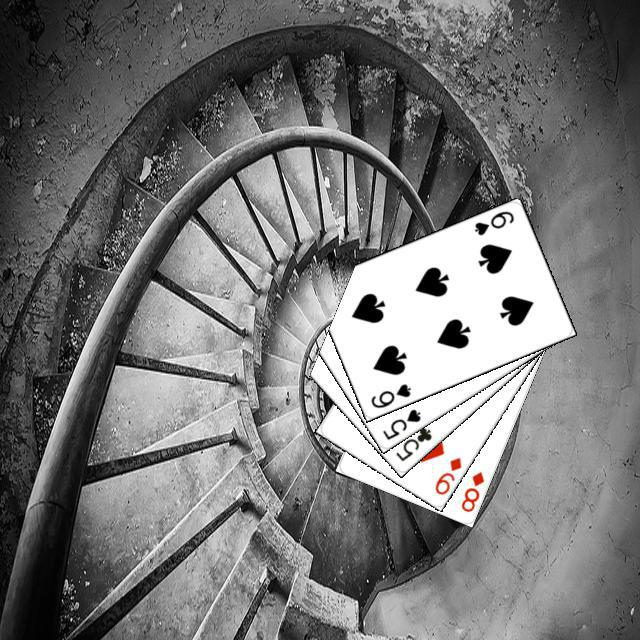5c: (391, 422, 433, 463)
5s: (377, 404, 422, 441)
6s: (469, 206, 516, 237), (366, 379, 412, 410)
8d: (456, 466, 486, 514)
9d: (430, 452, 463, 497)
